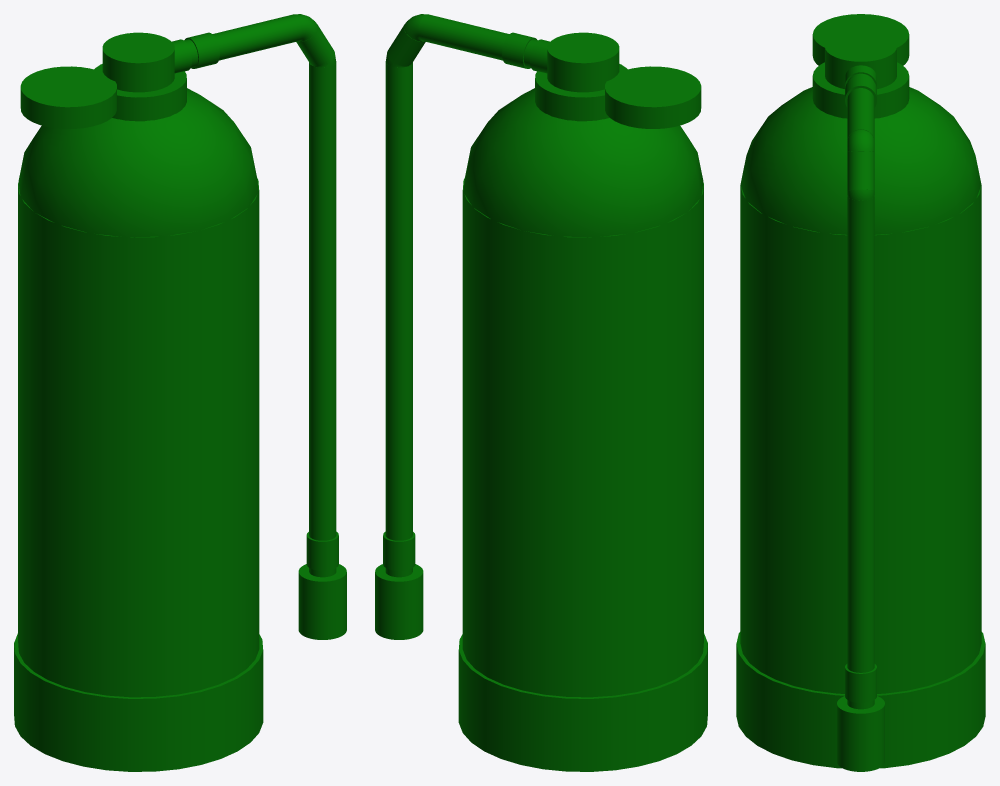
Rendered from Image-1710907665436-2280401997856_76-SE0590.fbx.
The picture shows the model from 3 angles, left to right: view 1: azimuth 30°, elevation 25°; view 2: azimuth 150°, elevation 25°; view 3: azimuth 270°, elevation 25°; orthographic projection.
Visible parts, largest first — view 1: CYLINDER 1 of EQUIPMENT /76-SE0590, DISH 1 of EQUIPMENT /76-SE0590, CYLINDER 13 of EQUIPMENT /76-SE0590, CYLINDER 6 of EQUIPMENT /76-SE0590, CYLINDER 4 of EQUIPMENT /76-SE0590, CYLINDER 3 of EQUIPMENT /76-SE0590, CYLINDER 10 of EQUIPMENT /76-SE0590, CYLINDER 7 of EQUIPMENT /76-SE0590, CYLINDER 2 of EQUIPMENT /76-SE0590, CYLINDER 9 of EQUIPMENT /76-SE0590, CYLINDER 8 of EQUIPMENT /76-SE0590, CYLINDER 12 of EQUIPMENT /76-SE0590; view 2: CYLINDER 1 of EQUIPMENT /76-SE0590, DISH 1 of EQUIPMENT /76-SE0590, CYLINDER 13 of EQUIPMENT /76-SE0590, CYLINDER 6 of EQUIPMENT /76-SE0590, CYLINDER 4 of EQUIPMENT /76-SE0590, CYLINDER 3 of EQUIPMENT /76-SE0590, CYLINDER 10 of EQUIPMENT /76-SE0590, CYLINDER 7 of EQUIPMENT /76-SE0590, CYLINDER 2 of EQUIPMENT /76-SE0590, CYLINDER 9 of EQUIPMENT /76-SE0590, CYLINDER 8 of EQUIPMENT /76-SE0590, CYLINDER 12 of EQUIPMENT /76-SE0590; view 3: CYLINDER 1 of EQUIPMENT /76-SE0590, DISH 1 of EQUIPMENT /76-SE0590, CYLINDER 13 of EQUIPMENT /76-SE0590, CYLINDER 6 of EQUIPMENT /76-SE0590, CYLINDER 10 of EQUIPMENT /76-SE0590, CYLINDER 3 of EQUIPMENT /76-SE0590, CYLINDER 2 of EQUIPMENT /76-SE0590, CYLINDER 4 of EQUIPMENT /76-SE0590, CYLINDER 7 of EQUIPMENT /76-SE0590, CYLINDER 8 of EQUIPMENT /76-SE0590, CYLINDER 9 of EQUIPMENT /76-SE0590, CTORUS 1 of EQUIPMENT /76-SE0590 (+1 smaller).
Part boxes in pixels (box(x1,y1,x2,y2)): CYLINDER 1 of EQUIPMENT /76-SE0590: box(18, 178, 259, 697); DISH 1 of EQUIPMENT /76-SE0590: box(18, 88, 258, 237); CYLINDER 13 of EQUIPMENT /76-SE0590: box(14, 633, 263, 771); CYLINDER 6 of EQUIPMENT /76-SE0590: box(309, 62, 336, 577); CYLINDER 4 of EQUIPMENT /76-SE0590: box(20, 66, 116, 128); CYLINDER 3 of EQUIPMENT /76-SE0590: box(102, 32, 174, 92); CYLINDER 10 of EQUIPMENT /76-SE0590: box(298, 564, 346, 639); CYLINDER 7 of EQUIPMENT /76-SE0590: box(212, 14, 303, 60); CYLINDER 2 of EQUIPMENT /76-SE0590: box(94, 64, 186, 121); CYLINDER 9 of EQUIPMENT /76-SE0590: box(306, 531, 338, 570); CYLINDER 8 of EQUIPMENT /76-SE0590: box(296, 25, 334, 66); CYLINDER 12 of EQUIPMENT /76-SE0590: box(185, 32, 219, 68); CYLINDER 1 of EQUIPMENT /76-SE0590: box(462, 178, 703, 697); DISH 1 of EQUIPMENT /76-SE0590: box(463, 88, 703, 237); CYLINDER 13 of EQUIPMENT /76-SE0590: box(458, 633, 707, 771); CYLINDER 6 of EQUIPMENT /76-SE0590: box(385, 62, 412, 577); CYLINDER 4 of EQUIPMENT /76-SE0590: box(605, 66, 701, 128); CYLINDER 3 of EQUIPMENT /76-SE0590: box(547, 32, 619, 92); CYLINDER 10 of EQUIPMENT /76-SE0590: box(375, 564, 423, 639); CYLINDER 7 of EQUIPMENT /76-SE0590: box(418, 14, 509, 60); CYLINDER 2 of EQUIPMENT /76-SE0590: box(535, 64, 627, 121); CYLINDER 9 of EQUIPMENT /76-SE0590: box(383, 531, 415, 570); CYLINDER 8 of EQUIPMENT /76-SE0590: box(387, 25, 425, 66); CYLINDER 12 of EQUIPMENT /76-SE0590: box(502, 32, 536, 68); CYLINDER 1 of EQUIPMENT /76-SE0590: box(740, 185, 981, 693); DISH 1 of EQUIPMENT /76-SE0590: box(740, 87, 981, 234); CYLINDER 13 of EQUIPMENT /76-SE0590: box(736, 632, 985, 768); CYLINDER 6 of EQUIPMENT /76-SE0590: box(847, 196, 874, 709); CYLINDER 10 of EQUIPMENT /76-SE0590: box(837, 696, 884, 771); CYLINDER 3 of EQUIPMENT /76-SE0590: box(825, 31, 896, 88); CYLINDER 2 of EQUIPMENT /76-SE0590: box(812, 62, 909, 118); CYLINDER 4 of EQUIPMENT /76-SE0590: box(812, 14, 909, 65); CYLINDER 7 of EQUIPMENT /76-SE0590: box(847, 88, 874, 151); CYLINDER 8 of EQUIPMENT /76-SE0590: box(847, 151, 874, 190); CYLINDER 9 of EQUIPMENT /76-SE0590: box(845, 664, 876, 702); CTORUS 1 of EQUIPMENT /76-SE0590: box(847, 129, 874, 151).
Size of the model in its own units: 0.227 by 0.155 by 0.46.
